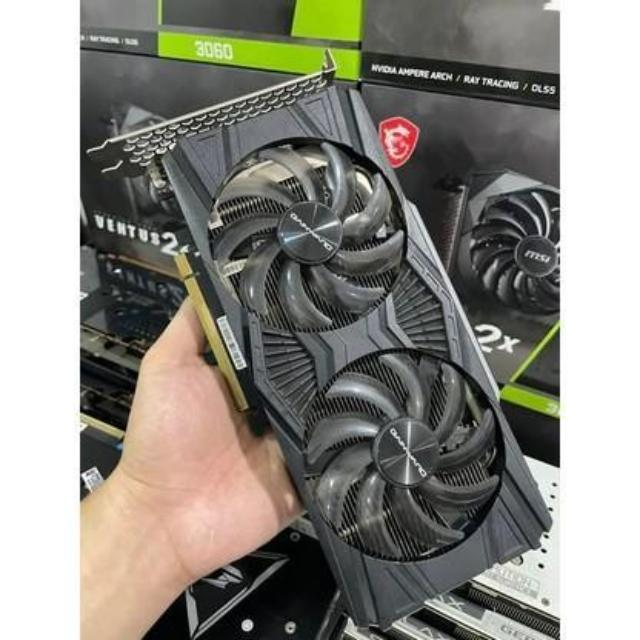GPU: (163, 61, 552, 616)
